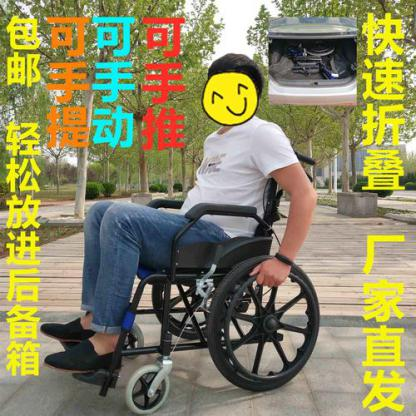wheelchair: (50, 49, 322, 414)
